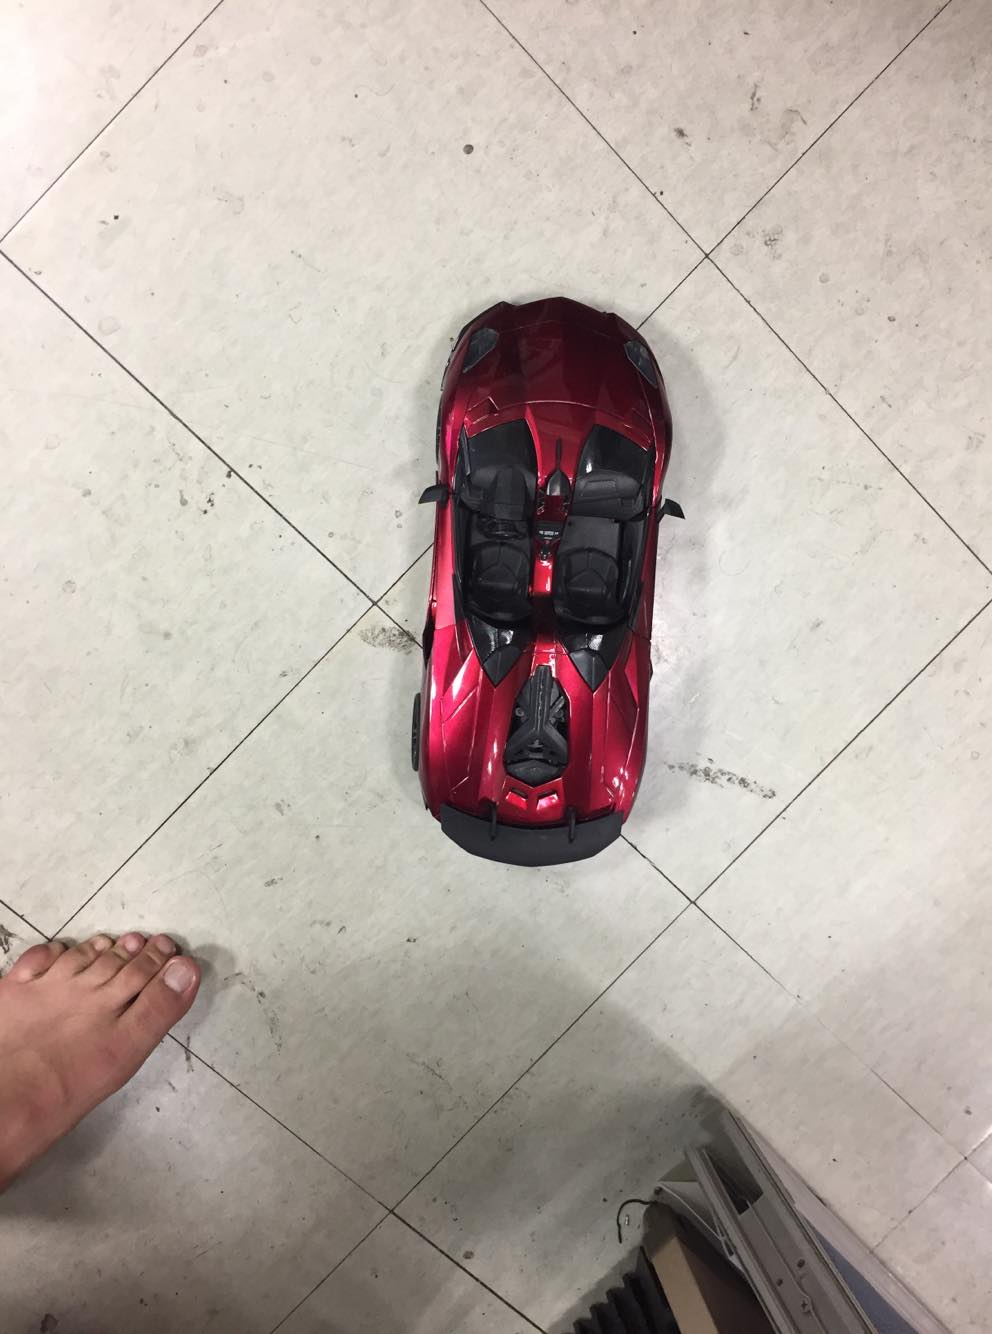car: (400, 268, 681, 868)
